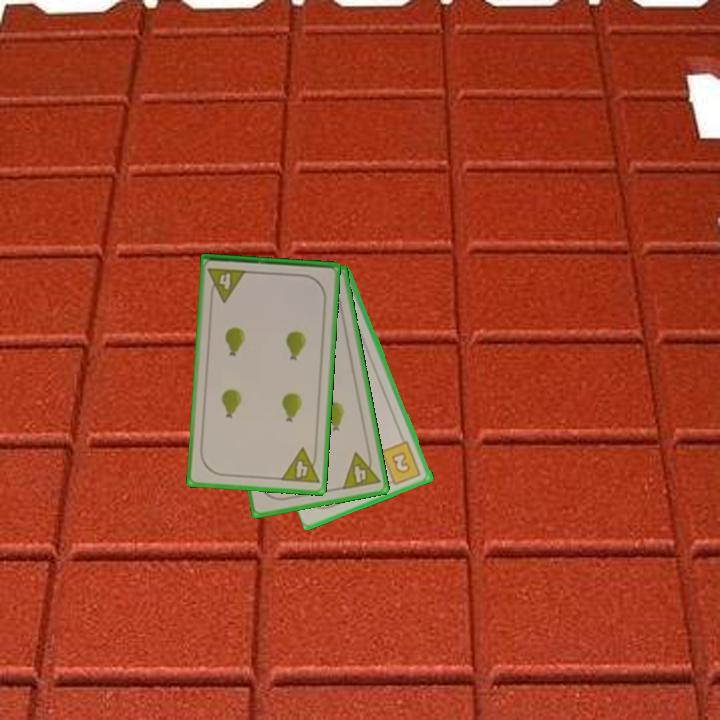2b: (378, 438, 424, 488)
4p: (339, 447, 383, 492), (277, 445, 322, 487), (205, 264, 249, 304)
